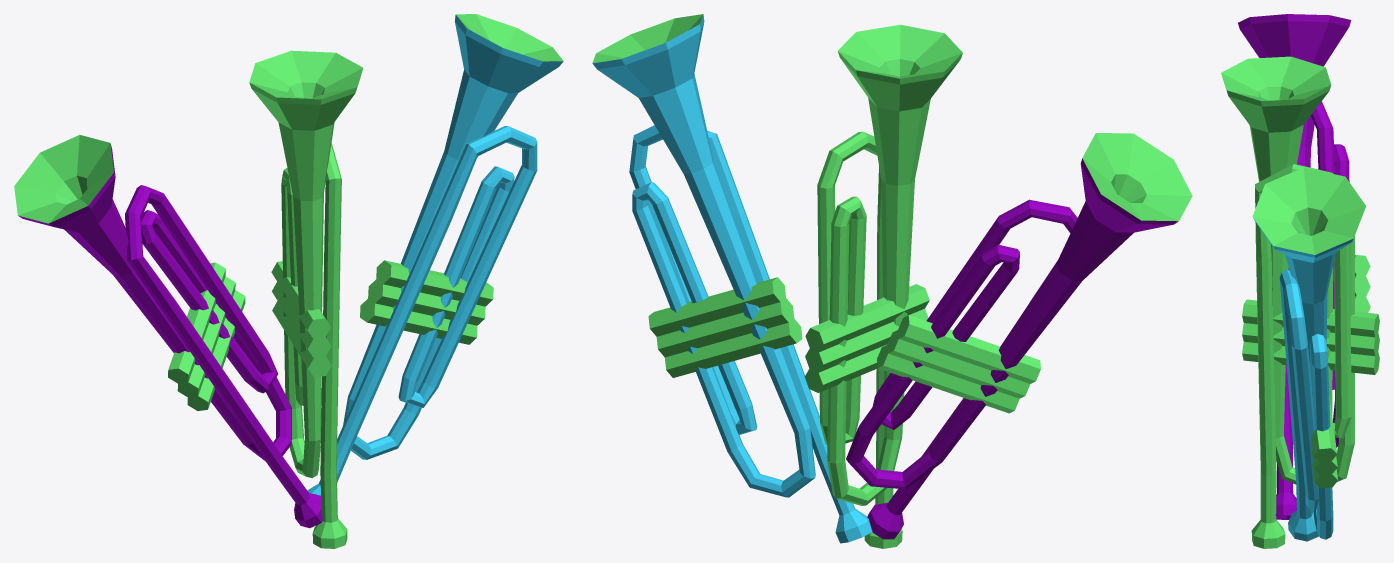
File: 058_Trumpet.fbx
3 views of the same model, side by side, from view 1: azimuth 30°, elevation 25°; view 2: azimuth 150°, elevation 25°; view 3: azimuth 270°, elevation 25° (orthographic). The views are drawn at different scales.
Parts seen in each view (by area): view 1: Trumpet; view 2: Trumpet; view 3: Trumpet.
Boxes of the visible parts, left/top/right/bottom form: Trumpet: left=14, top=14, right=563, bottom=548; Trumpet: left=592, top=14, right=1192, bottom=548; Trumpet: left=1221, top=14, right=1379, bottom=548.
Bounding box in the file's own units: 119 × 98.92 × 31.29.
